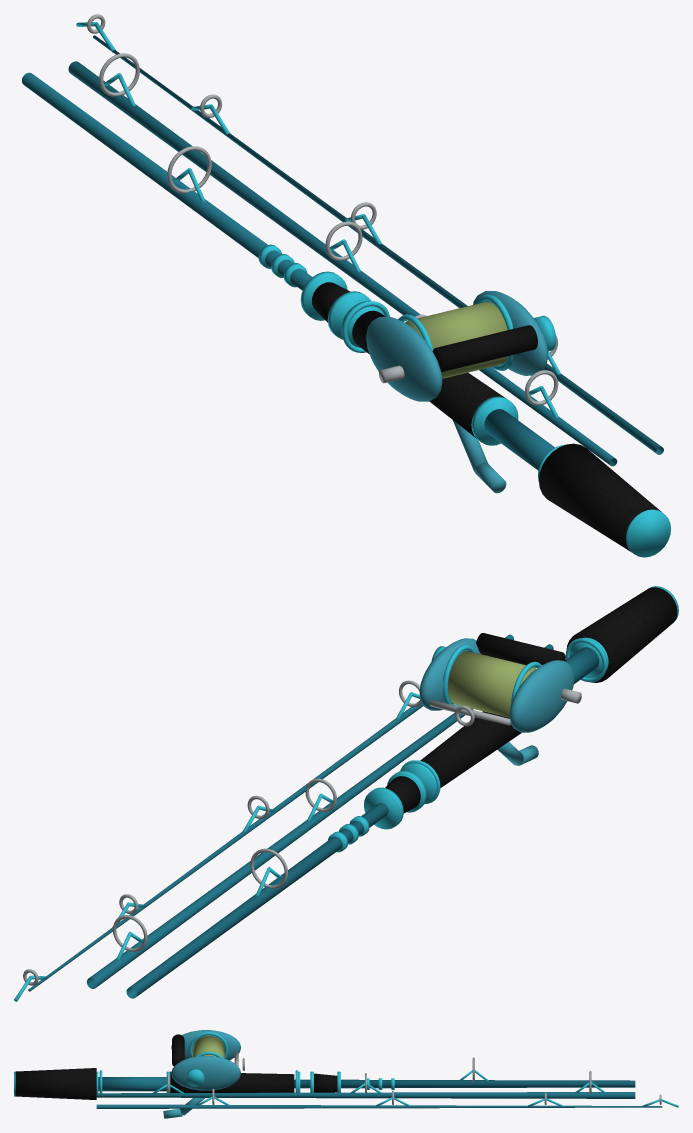
Rendered from kingfisher_lure_folded.glb.
3 views of the same model, one above another, from view 1: azimuth 30°, elevation 25°; view 2: azimuth 150°, elevation 25°; view 3: azimuth 270°, elevation 25° (orthographic). The views are drawn at different scales.
Parts seen in each view (by area): view 1: Folded rod; view 2: Folded rod; view 3: Folded rod.
Part boxes in pixels (box(x1,y1,x2,y2)): Folded rod: box(22, 14, 670, 557); Folded rod: box(14, 586, 678, 1001); Folded rod: box(14, 1030, 678, 1118).
Bounding box in the file's own units: 0.1244 × 0.0943 × 0.7405.
Materials: 6 (1 with a texture image).
